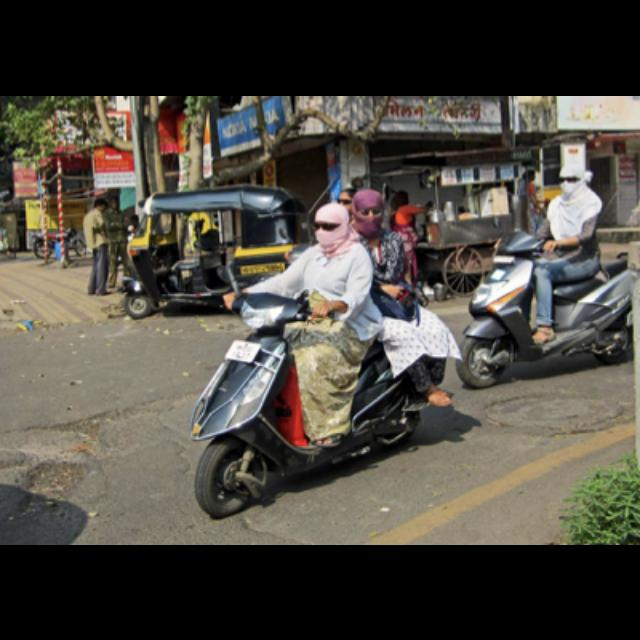Without Helmet: (309, 202, 355, 248), (552, 157, 594, 191)
